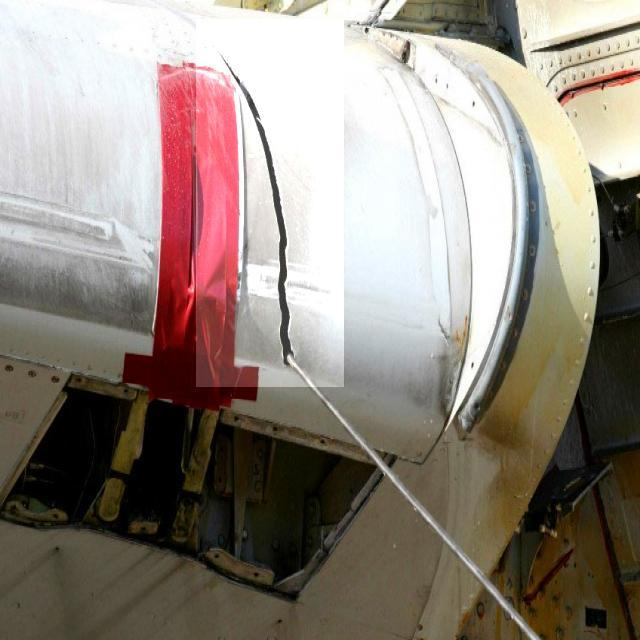crack: (197, 20, 345, 388)
